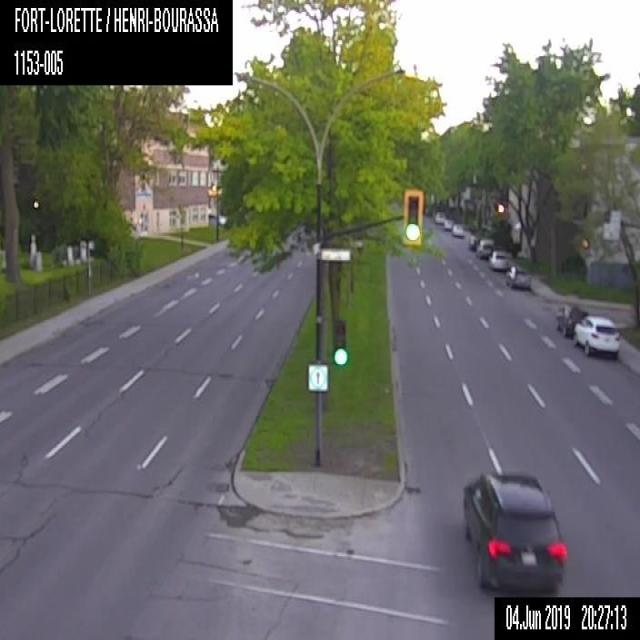vehicle: (461, 469, 568, 596), (574, 316, 620, 359), (555, 302, 588, 337), (505, 262, 531, 291), (488, 251, 511, 268), (476, 239, 495, 258), (466, 232, 480, 250), (451, 222, 463, 236), (442, 218, 453, 230), (434, 210, 444, 222)
